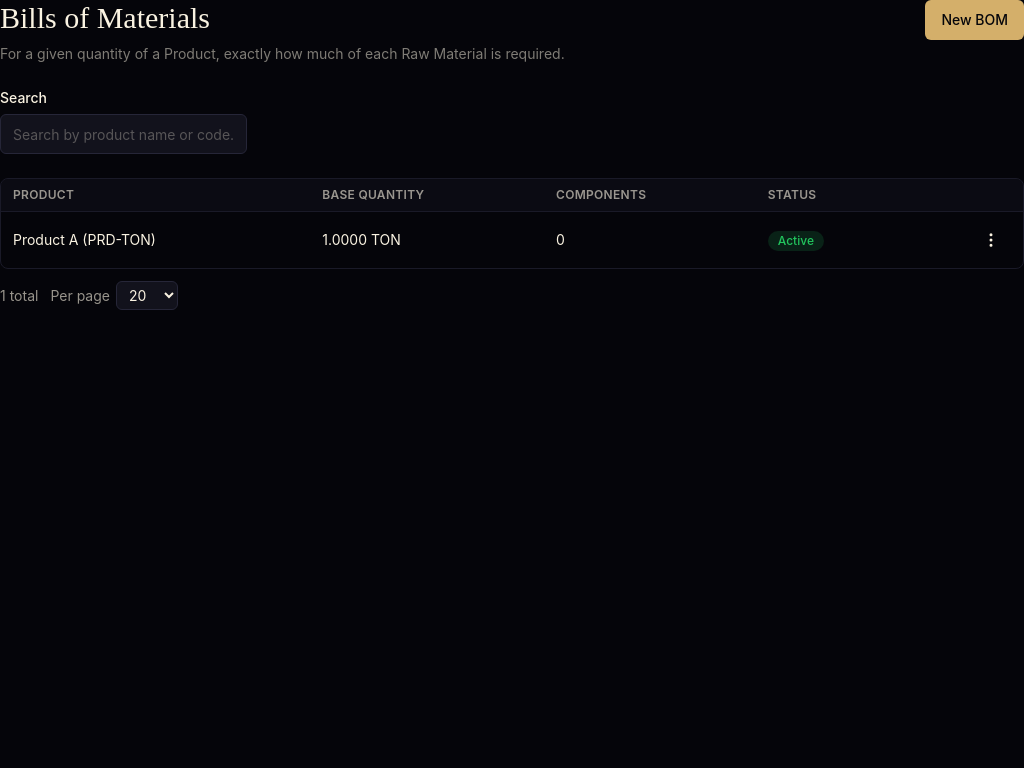
BomsPage › calculating requirements posts the production quantity and renders the resulting table
Expected: the text "Product A (PRD-TON)" is shown, [1,212,310,268]
Click the button named "Actions for": (991, 240) [971,220,1011,260]
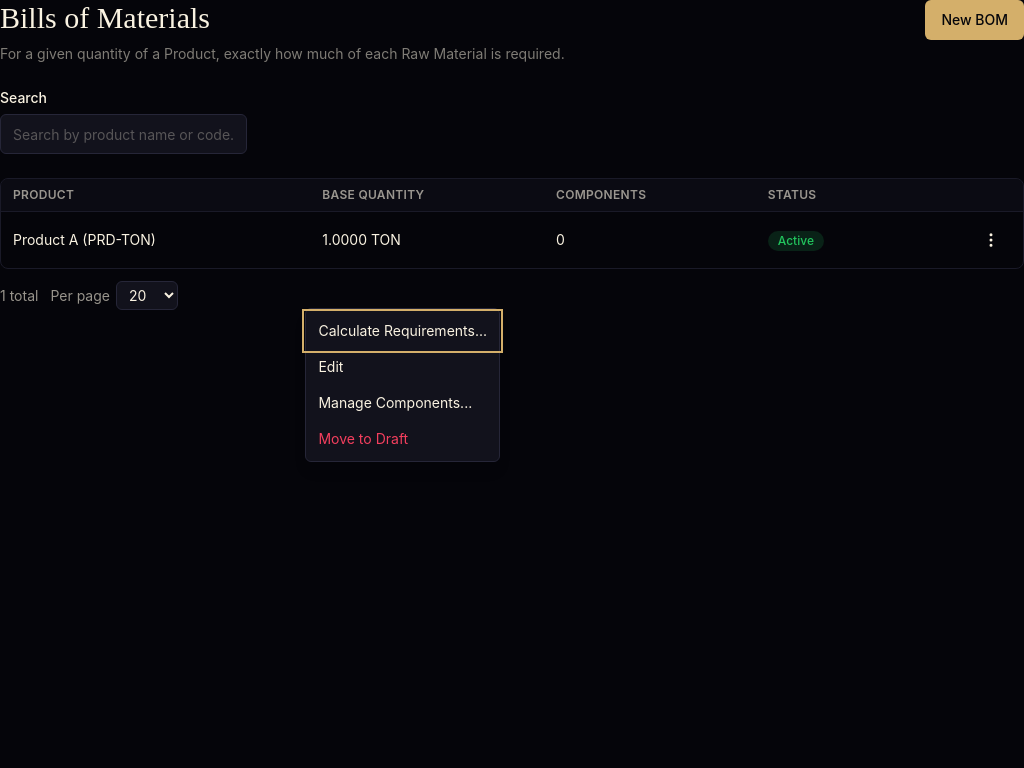
Click the menu item "Calculate Requirements...": (403, 331) [306,313,499,349]
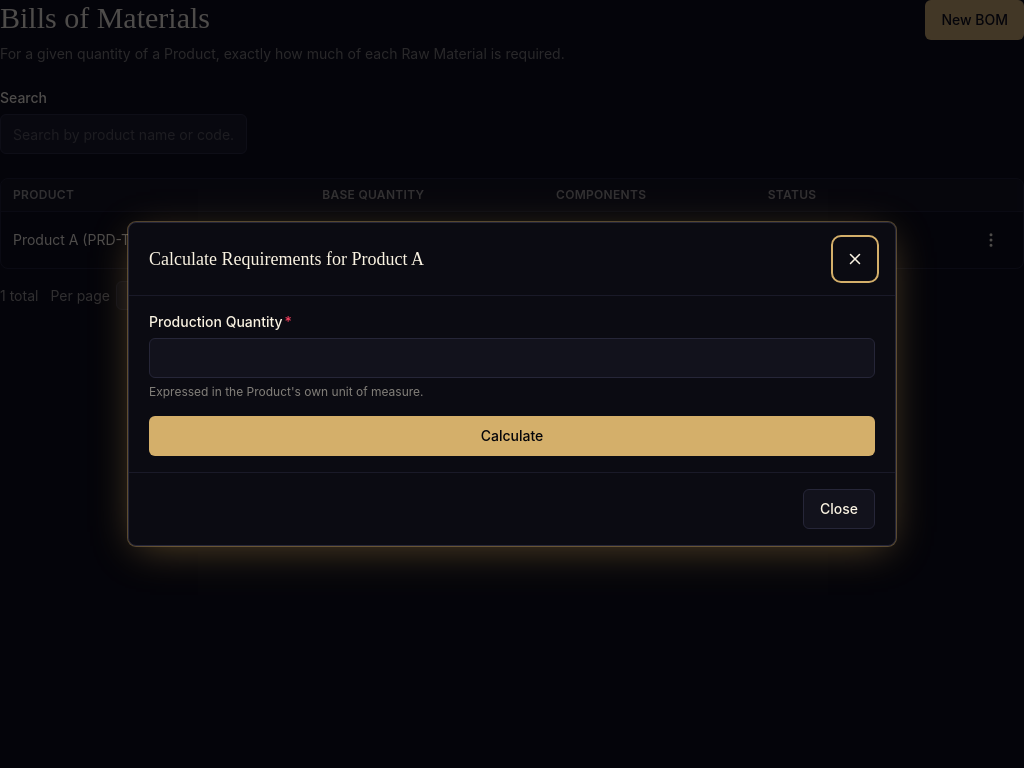
In the field labelled "Production Quantity": (512, 358) [149,338,875,378], type "2.5"
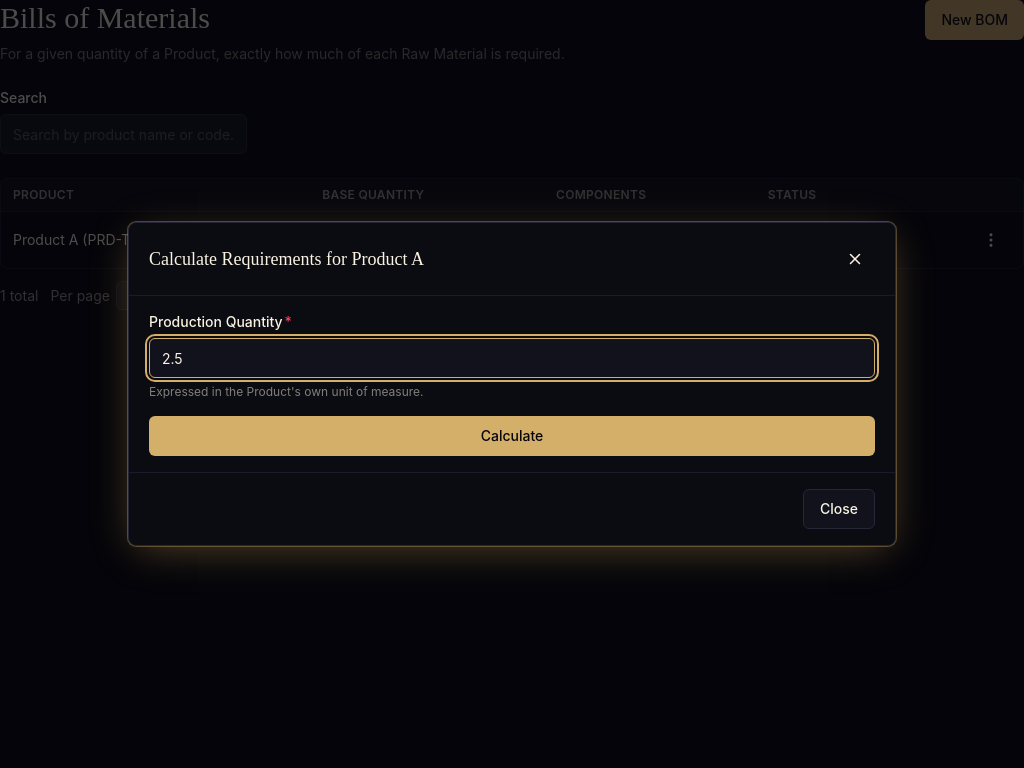
Click the button "Calculate": (512, 436) [149,416,875,456]
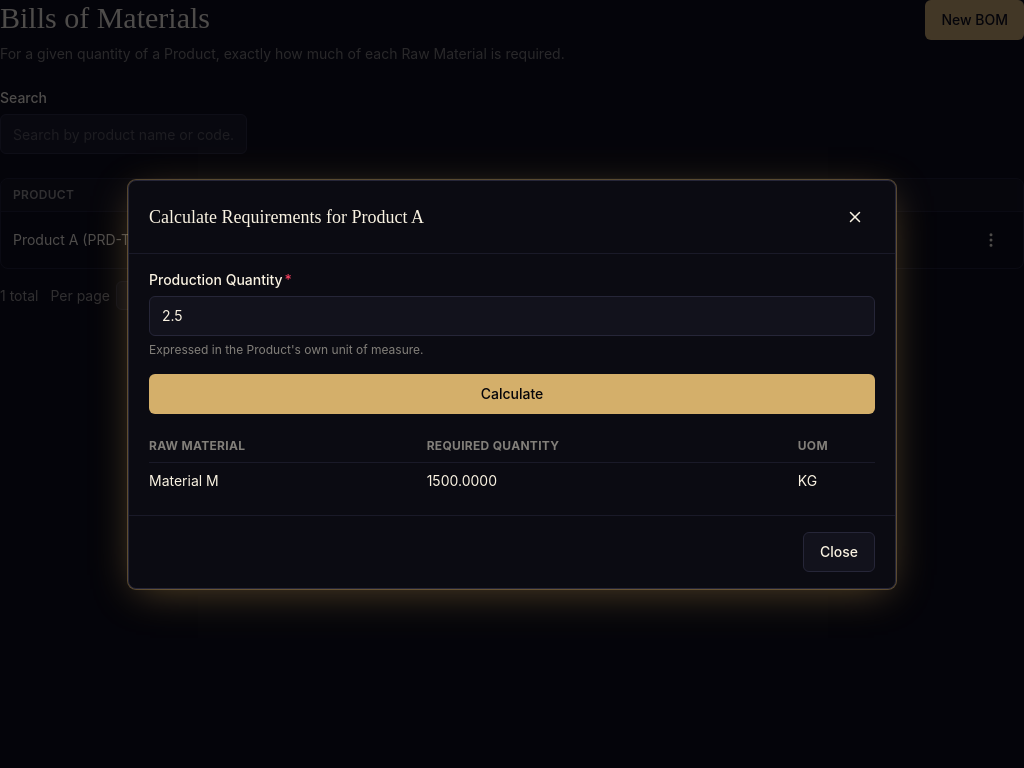
Expected: the text "1500.0000" is shown, [427,462,798,498]
Expected: the text "Material M" is shown, [149,462,427,498]
